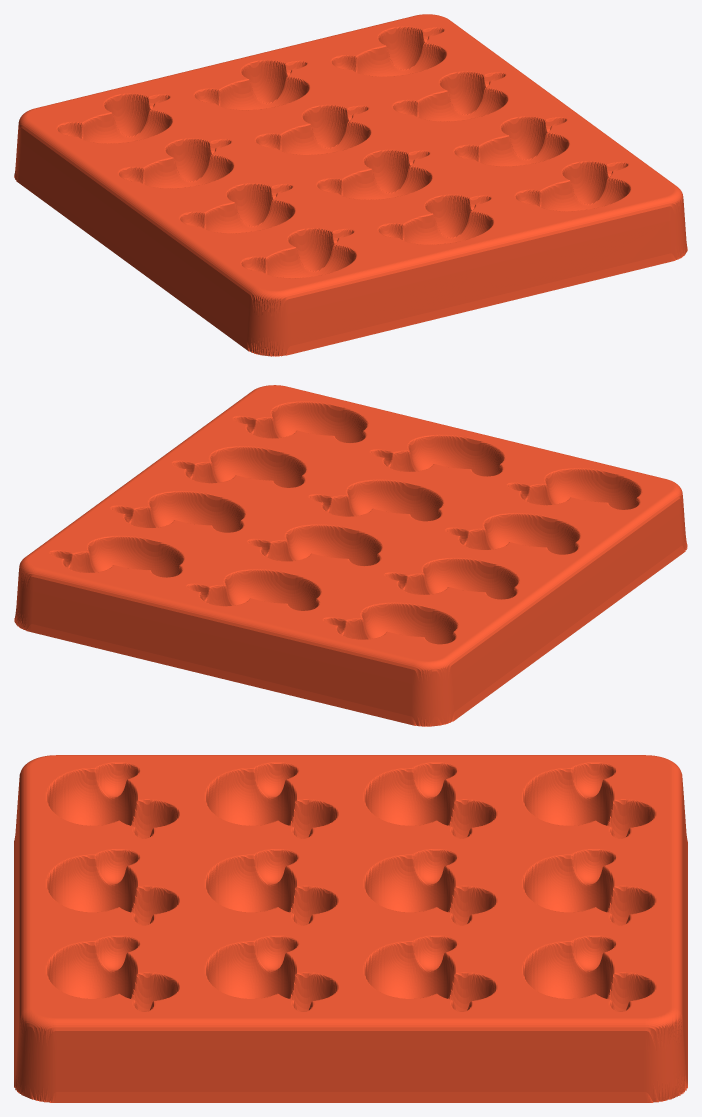
Rendered from mold.glb.
The picture shows the model from 3 angles, top to bottom: view 1: azimuth 30°, elevation 25°; view 2: azimuth 150°, elevation 25°; view 3: azimuth 270°, elevation 25°; orthographic projection. The views are drawn at different scales.
Parts seen in each view (by area): view 1: geometry_0; view 2: geometry_0; view 3: geometry_0.
Part boxes in pixels (x1=…): geometry_0: x1=14, y1=14, x2=687, y2=356; geometry_0: x1=14, y1=385, x2=687, y2=726; geometry_0: x1=14, y1=755, x2=687, y2=1102.
Size of the model in its own units: 0.1391 by 0.0182 by 0.1434.
